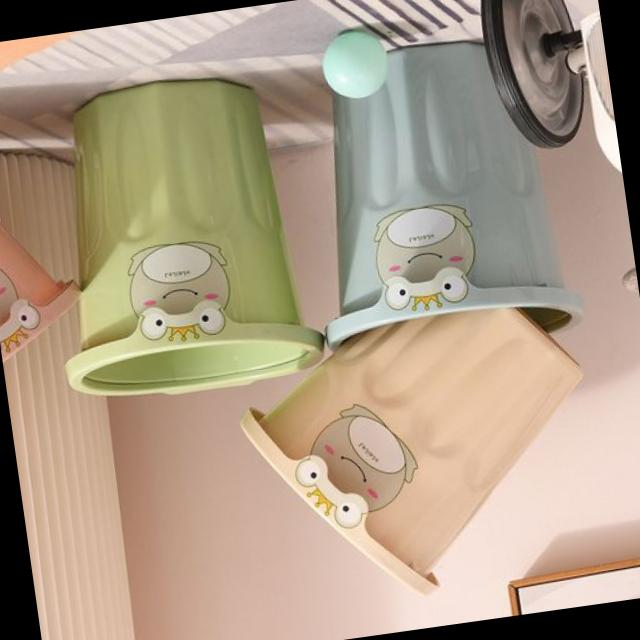dustbin: (225, 296, 615, 624), (25, 59, 332, 413), (282, 24, 592, 372)
